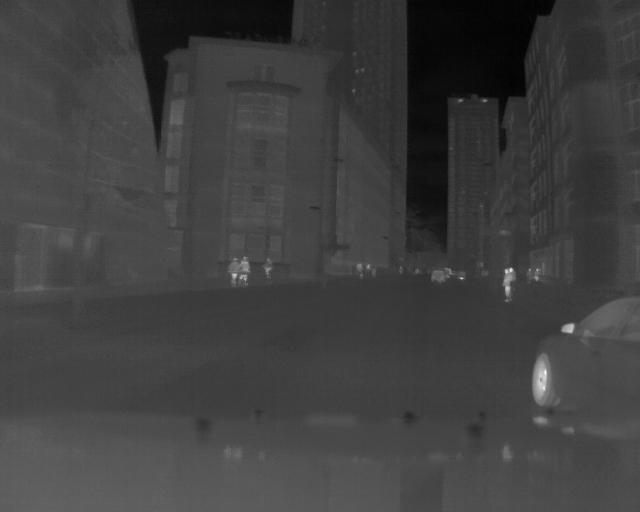car: (530, 294, 640, 416), (428, 268, 447, 286)
person: (239, 253, 252, 289), (227, 256, 240, 290), (501, 267, 511, 302), (261, 255, 273, 282), (507, 265, 515, 282), (533, 266, 540, 283), (525, 265, 532, 282)
